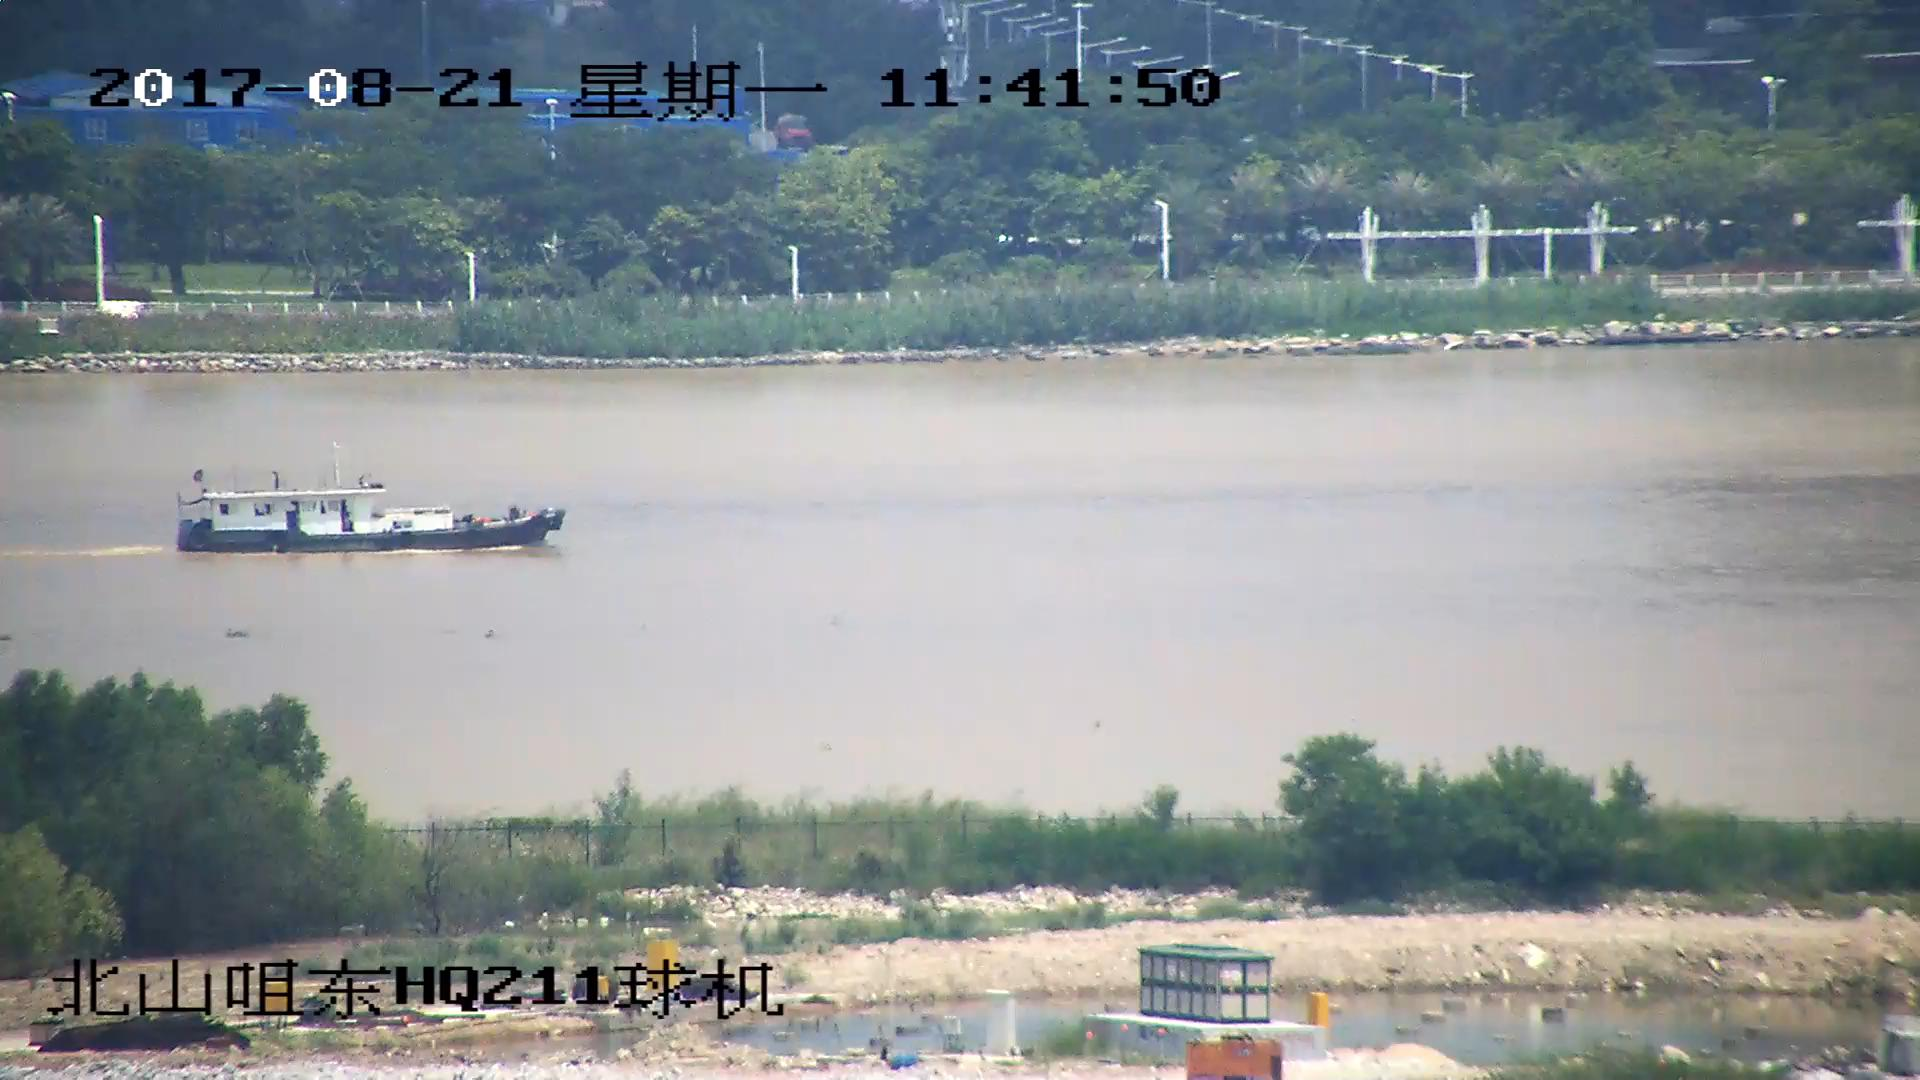fishing boat: (173, 467, 563, 555)
